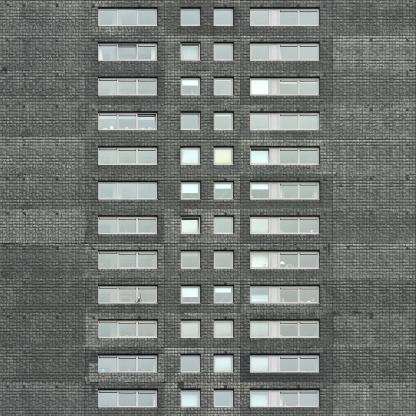Building Outline: (0, 0, 415, 416)
Facade: (0, 0, 415, 416)
Floor: (1, 0, 416, 36), (1, 351, 416, 383), (1, 247, 416, 279), (1, 212, 416, 244), (1, 143, 416, 175), (1, 39, 416, 71), (1, 385, 416, 416), (1, 317, 416, 348), (1, 282, 416, 313), (1, 178, 416, 209), (1, 109, 416, 140), (1, 74, 416, 105)
Floor Slab: (1, 383, 416, 386), (1, 348, 416, 351), (1, 314, 416, 317), (1, 279, 416, 282), (1, 244, 416, 247), (1, 210, 416, 213), (1, 175, 416, 178), (1, 140, 416, 143), (1, 105, 416, 108), (1, 71, 416, 74), (1, 36, 416, 39)
Window: (251, 8, 320, 26), (251, 389, 320, 407), (251, 320, 320, 338), (251, 147, 320, 165), (251, 78, 320, 96), (251, 355, 320, 372), (251, 286, 320, 303), (251, 251, 320, 268), (251, 217, 320, 234), (251, 182, 320, 199), (251, 113, 320, 130), (251, 43, 320, 60), (98, 8, 157, 26), (98, 389, 157, 407), (98, 320, 157, 338), (98, 147, 157, 165), (98, 78, 157, 96), (98, 355, 157, 372), (98, 286, 157, 303), (98, 251, 157, 268), (98, 217, 157, 234), (98, 182, 157, 199), (98, 113, 157, 130), (98, 43, 157, 60), (214, 8, 233, 26), (181, 8, 200, 26), (214, 389, 233, 407), (181, 389, 200, 407), (214, 320, 233, 338), (181, 320, 200, 338), (214, 147, 233, 165), (181, 147, 200, 165), (214, 78, 233, 96), (181, 78, 200, 96), (214, 355, 233, 372), (181, 355, 200, 372), (214, 286, 233, 303), (181, 286, 200, 303), (214, 251, 233, 268), (181, 251, 200, 268), (214, 217, 233, 234), (181, 217, 200, 234), (214, 182, 233, 199), (181, 182, 200, 199), (214, 113, 233, 130), (181, 113, 200, 130), (214, 43, 233, 60), (181, 43, 200, 60)
